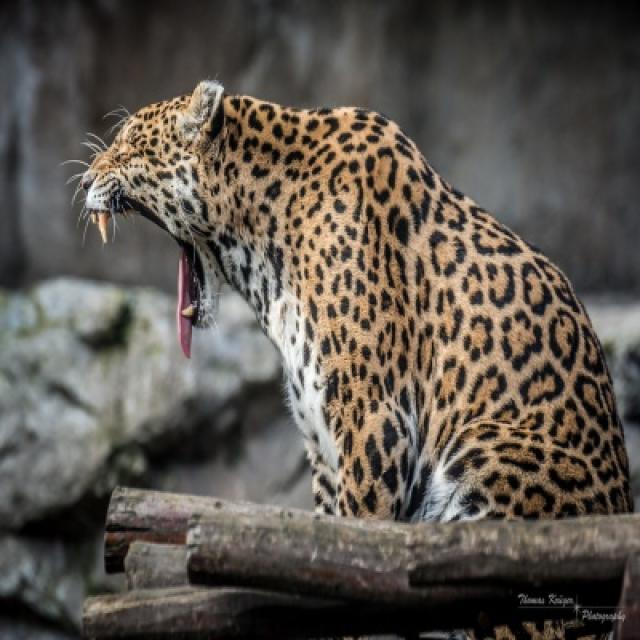Jaguar: (59, 82, 634, 526)
